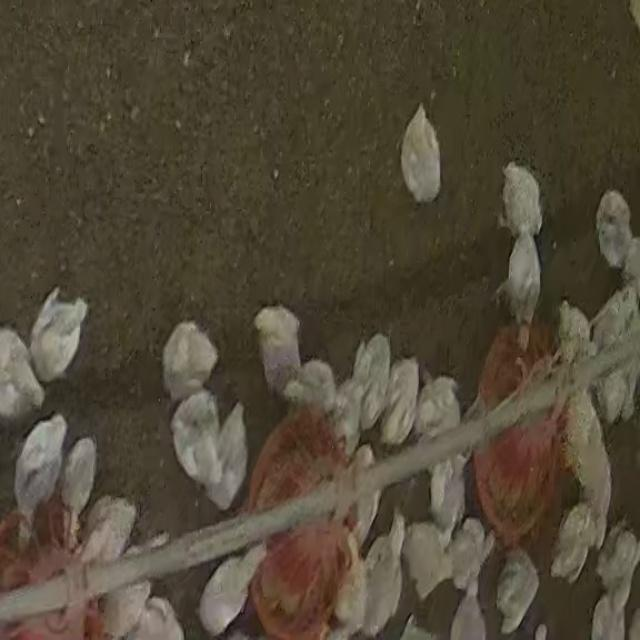chicken: (170, 391, 249, 512), (97, 532, 169, 634), (196, 541, 268, 632), (357, 511, 410, 634), (13, 414, 68, 530), (28, 288, 90, 387), (161, 319, 220, 405), (503, 226, 540, 351), (1, 324, 47, 424), (325, 534, 369, 638), (59, 433, 99, 542), (78, 495, 134, 572), (399, 522, 454, 599), (428, 443, 479, 525), (577, 433, 614, 544), (252, 305, 302, 386), (549, 506, 598, 588), (494, 548, 540, 634), (400, 104, 441, 200), (594, 522, 637, 610), (285, 356, 343, 419), (354, 333, 393, 426), (381, 354, 420, 446), (444, 516, 487, 593), (414, 372, 461, 442), (348, 444, 382, 540), (502, 162, 544, 234), (555, 302, 591, 372), (598, 192, 632, 266), (563, 389, 595, 466), (331, 376, 360, 456), (450, 582, 488, 640)
